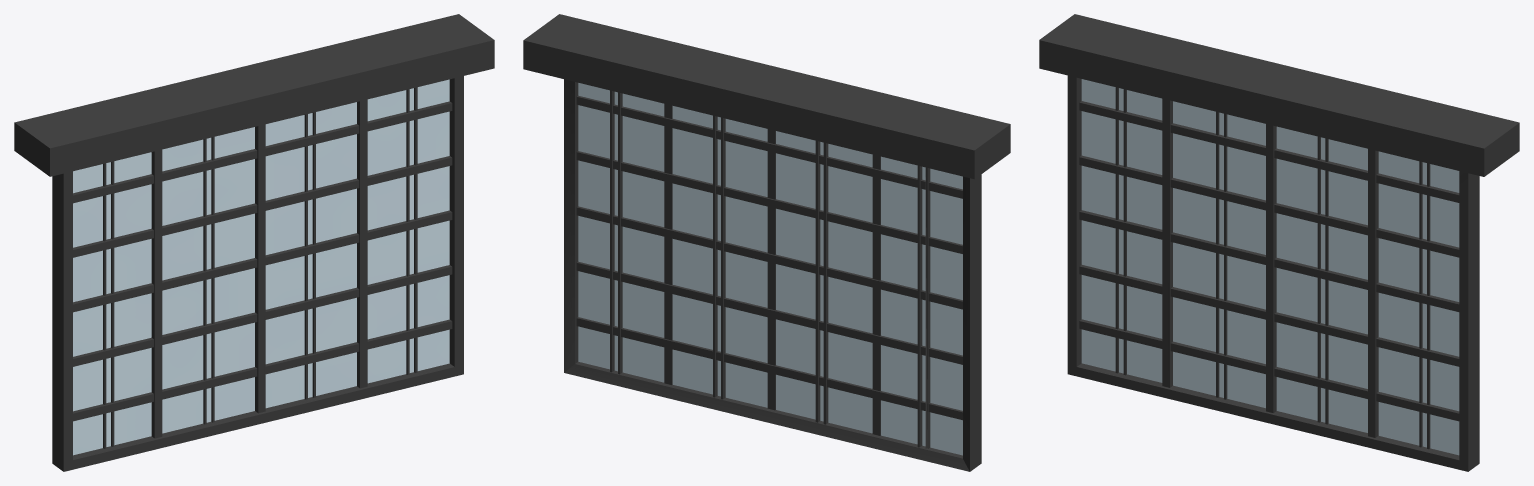
The model's file is window_016.fbx.
3 views of the same model, side by side, from view 1: azimuth 30°, elevation 25°; view 2: azimuth 150°, elevation 25°; view 3: azimuth 330°, elevation 25° (orthographic).
Visible parts, largest first — view 1: window_016; view 2: window_016; view 3: window_016.
Boxes of the visible parts, bbox=[...] form: window_016: bbox=[14, 14, 494, 471]; window_016: bbox=[523, 14, 1010, 471]; window_016: bbox=[1039, 14, 1519, 471].
Bounding box in the file's own units: 343 × 47.45 × 246.
